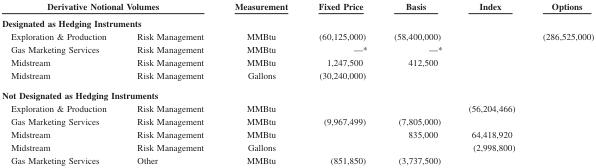table: (1, 0, 593, 164)
table column: (1, 0, 121, 164), (121, 0, 218, 164), (218, 0, 302, 164), (302, 0, 379, 164), (379, 0, 454, 164), (454, 0, 528, 164), (528, 0, 593, 164)
table column header: (1, 0, 593, 14)
table projected row header: (1, 84, 593, 101), (1, 14, 593, 29)
table row: (1, 84, 593, 101), (1, 68, 593, 84), (1, 14, 593, 29), (1, 0, 593, 14), (1, 29, 593, 42), (1, 42, 593, 55), (1, 55, 593, 68), (1, 101, 593, 114), (1, 114, 593, 127), (1, 127, 593, 140), (1, 140, 593, 153), (1, 153, 593, 164)
table spanning cell: (1, 0, 218, 14)
